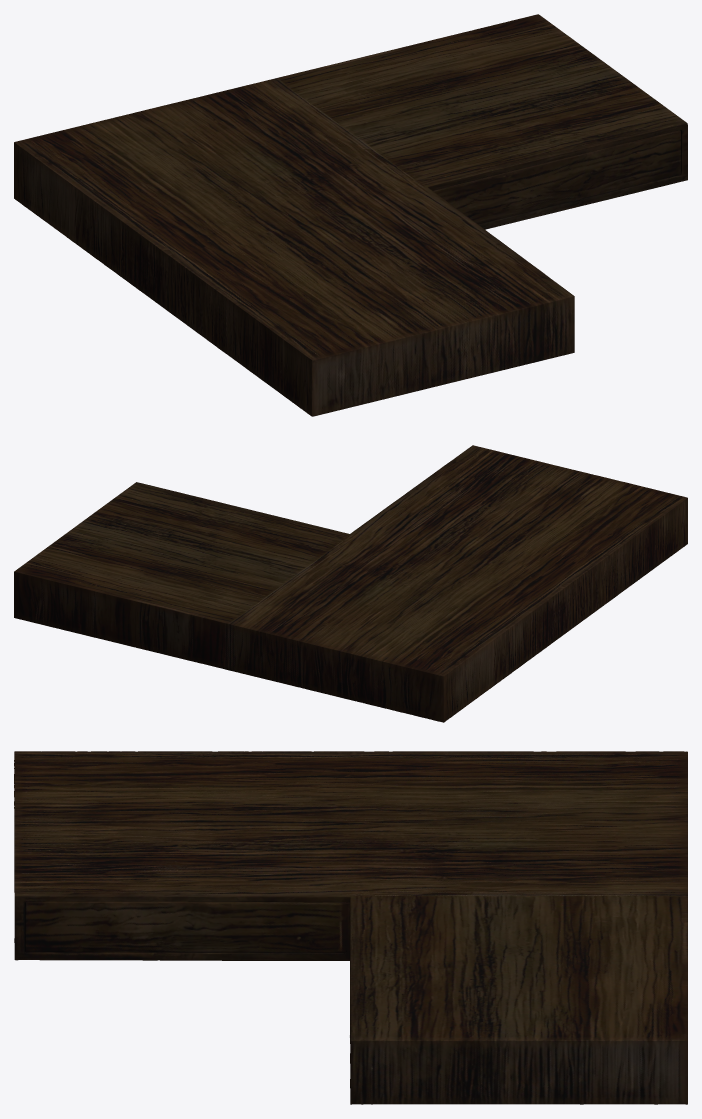
Rendered from desk.glb.
The picture shows the model from 3 angles, top to bottom: view 1: azimuth 30°, elevation 25°; view 2: azimuth 150°, elevation 25°; view 3: azimuth 270°, elevation 25°; orthographic projection. The views are drawn at different scales.
Visible parts, largest first — view 1: model; view 2: model; view 3: model.
Boxes of the visible parts, bbox=[...] form: model: bbox=[14, 14, 687, 416]; model: bbox=[14, 445, 687, 722]; model: bbox=[14, 751, 687, 1104].
Bounding box in the file's own units: 1.9 × 0.1967 × 1.87.
1 material, 1 textured.
